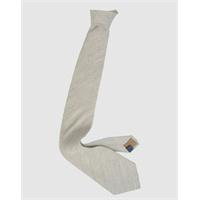tie: (60, 9, 140, 195)
